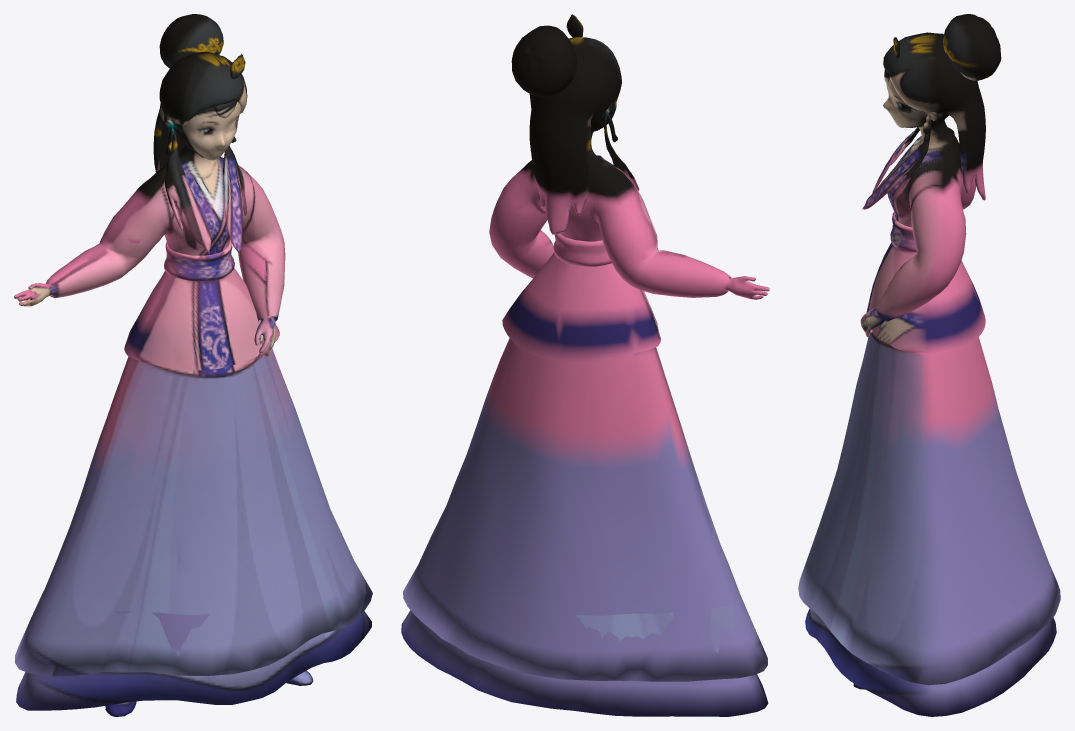
File: beodeuri-colored-v4.glb
3 views of the same model, side by side, from view 1: azimuth 30°, elevation 25°; view 2: azimuth 150°, elevation 25°; view 3: azimuth 270°, elevation 25° (orthographic). The views are drawn at different scales.
Visible parts, largest first — view 1: NPC_beodeuri; view 2: NPC_beodeuri; view 3: NPC_beodeuri.
Boxes of the visible parts, <box> form: NPC_beodeuri: <box>14,14,372,716</box>; NPC_beodeuri: <box>401,14,769,716</box>; NPC_beodeuri: <box>798,14,1060,716</box>.
Size of the model in its own units: 0.9544 by 1.65 by 0.614.
Materials: 1 (1 with a texture image).
